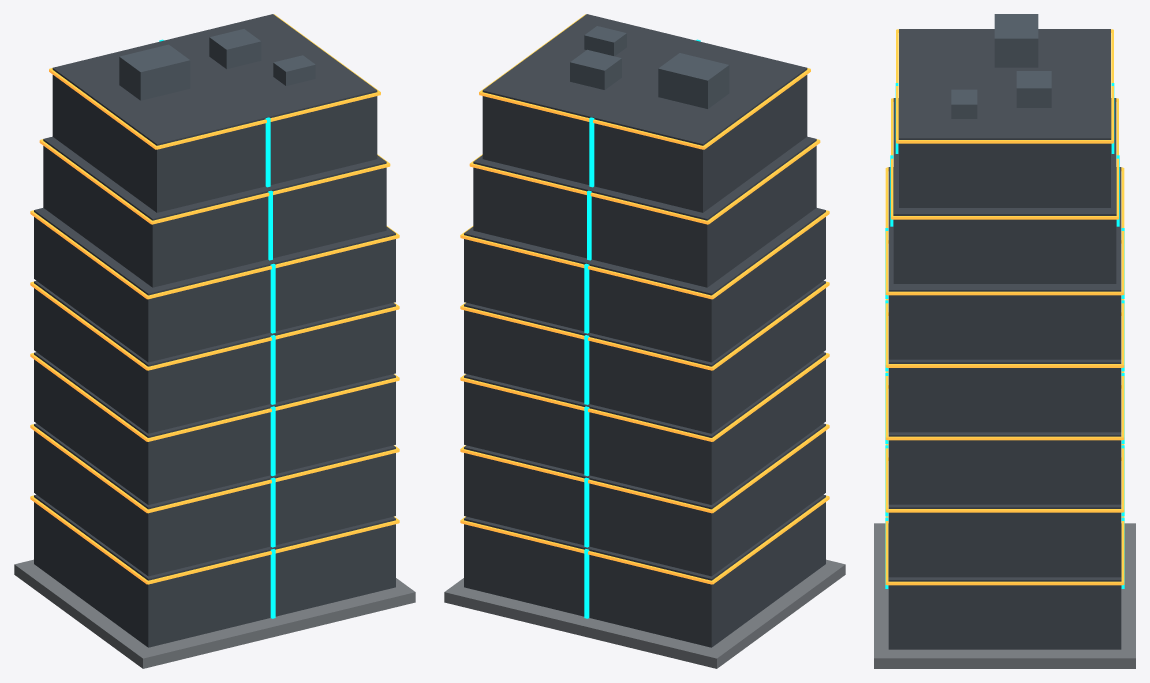
Rendered from stage 6.glb.
The picture shows the model from 3 angles, left to right: view 1: azimuth 30°, elevation 25°; view 2: azimuth 150°, elevation 25°; view 3: azimuth 270°, elevation 25°; orthographic projection.
Parts seen in each view (by area): view 1: VerticalCityMass, WarmFloorBands, Foundation.005, RooftopUnits.002, CyanLightSpines; view 2: VerticalCityMass, WarmFloorBands, Foundation.005, RooftopUnits.002, CyanLightSpines; view 3: VerticalCityMass, WarmFloorBands, Foundation.005, RooftopUnits.002, CyanLightSpines.
Boxes of the visible parts, box(x1,y1,x2,y2) form: VerticalCityMass: box(34, 14, 395, 647); WarmFloorBands: box(30, 14, 399, 584); Foundation.005: box(14, 559, 415, 668); RooftopUnits.002: box(119, 29, 315, 100); CyanLightSpines: box(159, 39, 275, 618); VerticalCityMass: box(464, 14, 825, 647); WarmFloorBands: box(460, 14, 829, 584); Foundation.005: box(444, 559, 845, 668); RooftopUnits.002: box(570, 26, 729, 108); CyanLightSpines: box(584, 39, 700, 618); VerticalCityMass: box(888, 29, 1121, 649); WarmFloorBands: box(885, 29, 1124, 585); Foundation.005: box(874, 523, 1135, 668); RooftopUnits.002: box(951, 14, 1051, 118); CyanLightSpines: box(885, 83, 1124, 588).
Bounding box in the file's own units: 11 × 20.8 × 9.
